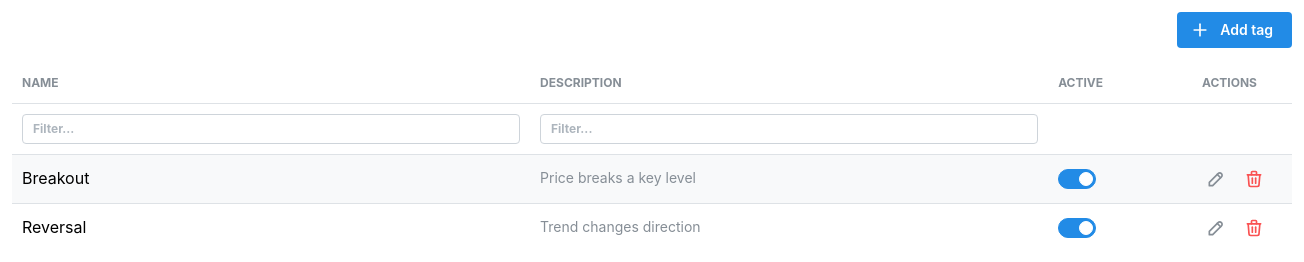
Test: TagsTab › column filters › filters by description
This screenshot has width=1304, height=262.
Expected: the text "Breakout" is shown, x1=22 y1=168 x2=89 y2=188
In the field named "Description": (789, 129) x1=540 y1=114 x2=1038 y2=144, type "key level"
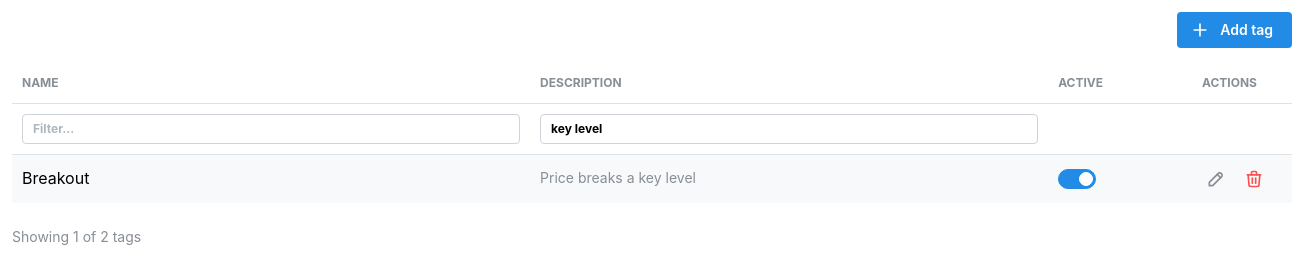
Expected: the text "Breakout" is shown, x1=22 y1=168 x2=89 y2=188
Expected: the text "Reversal" is gone
